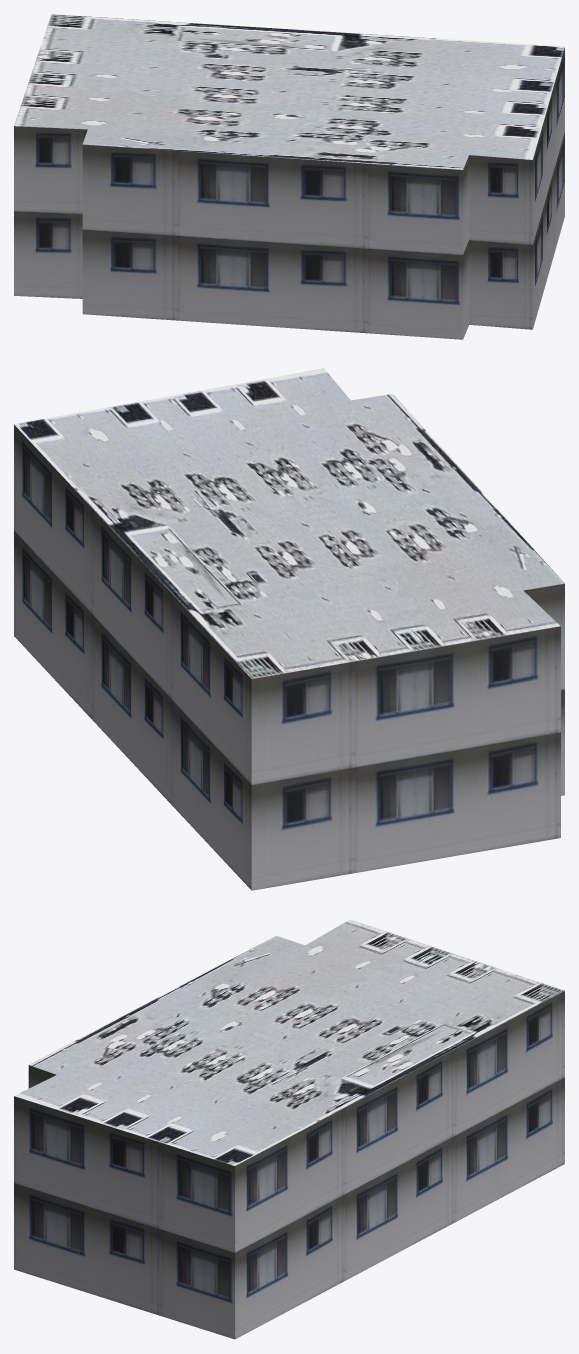
File: ResTex__2916.fbx
3 views of the same model, one above another, from view 1: azimuth 30°, elevation 25°; view 2: azimuth 150°, elevation 25°; view 3: azimuth 270°, elevation 25° (orthographic). The views are drawn at different scales.
Parts seen in each view (by area): view 1: CityEngineMaterial_9_m, CityEngineMaterial_4_m; view 2: CityEngineMaterial_9_m, CityEngineMaterial_4_m; view 3: CityEngineMaterial_9_m, CityEngineMaterial_4_m.
Part boxes in pixels (x1=…): CityEngineMaterial_9_m: x1=14, y1=47, x2=564, y2=339; CityEngineMaterial_4_m: x1=14, y1=14, x2=564, y2=169; CityEngineMaterial_9_m: x1=14, y1=424, x2=564, y2=890; CityEngineMaterial_4_m: x1=14, y1=368, x2=564, y2=678; CityEngineMaterial_9_m: x1=14, y1=990, x2=564, y2=1339; CityEngineMaterial_4_m: x1=14, y1=919, x2=564, y2=1165.
Size of the model in its own units: 18.3 by 6 by 17.28.
Materials: 2 (2 with a texture image).
